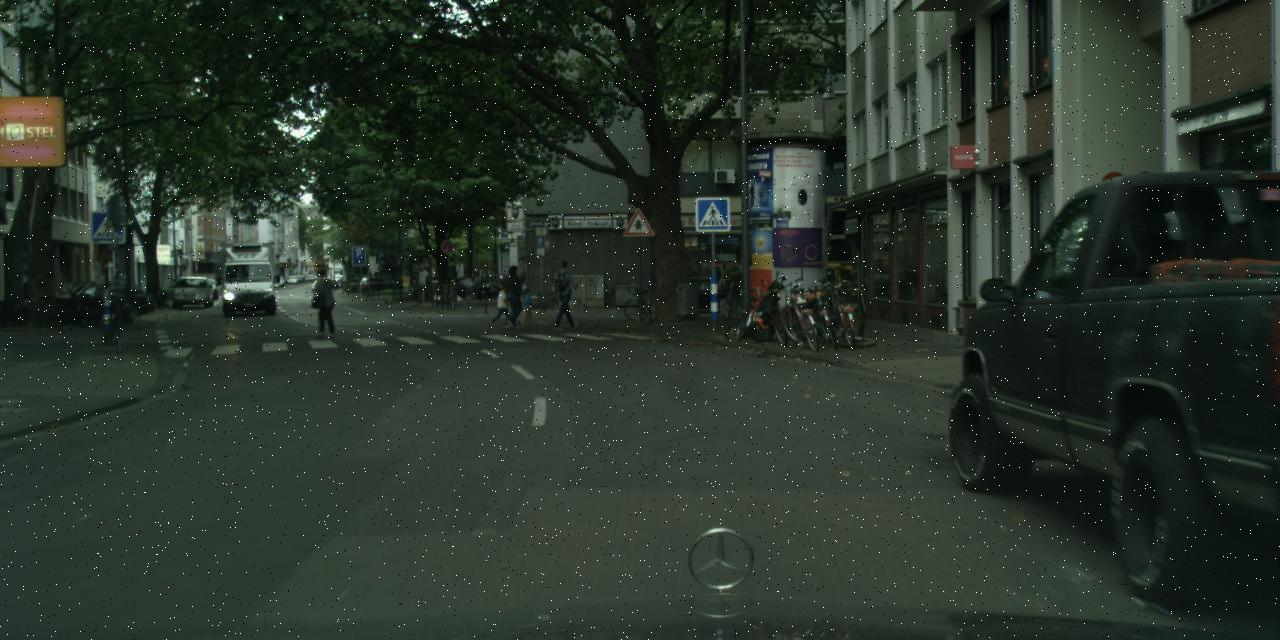ped: (310, 266, 338, 336), (550, 260, 578, 329), (499, 265, 524, 327), (492, 280, 512, 328), (517, 287, 534, 330)
